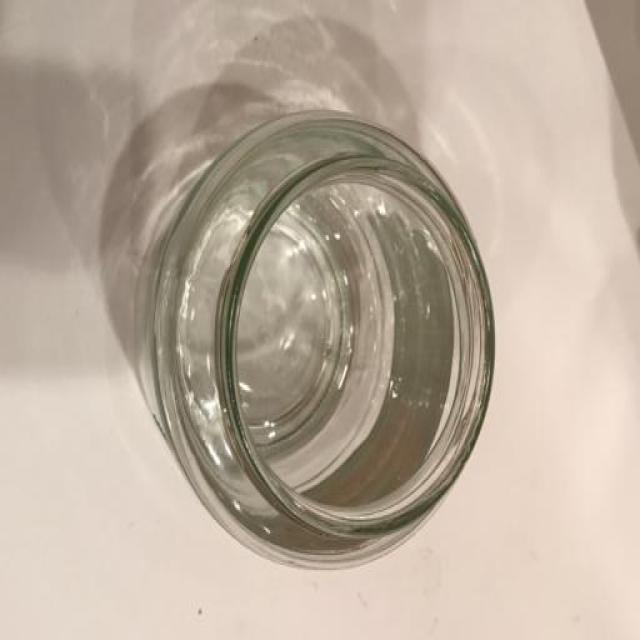glass: (150, 117, 495, 570)
